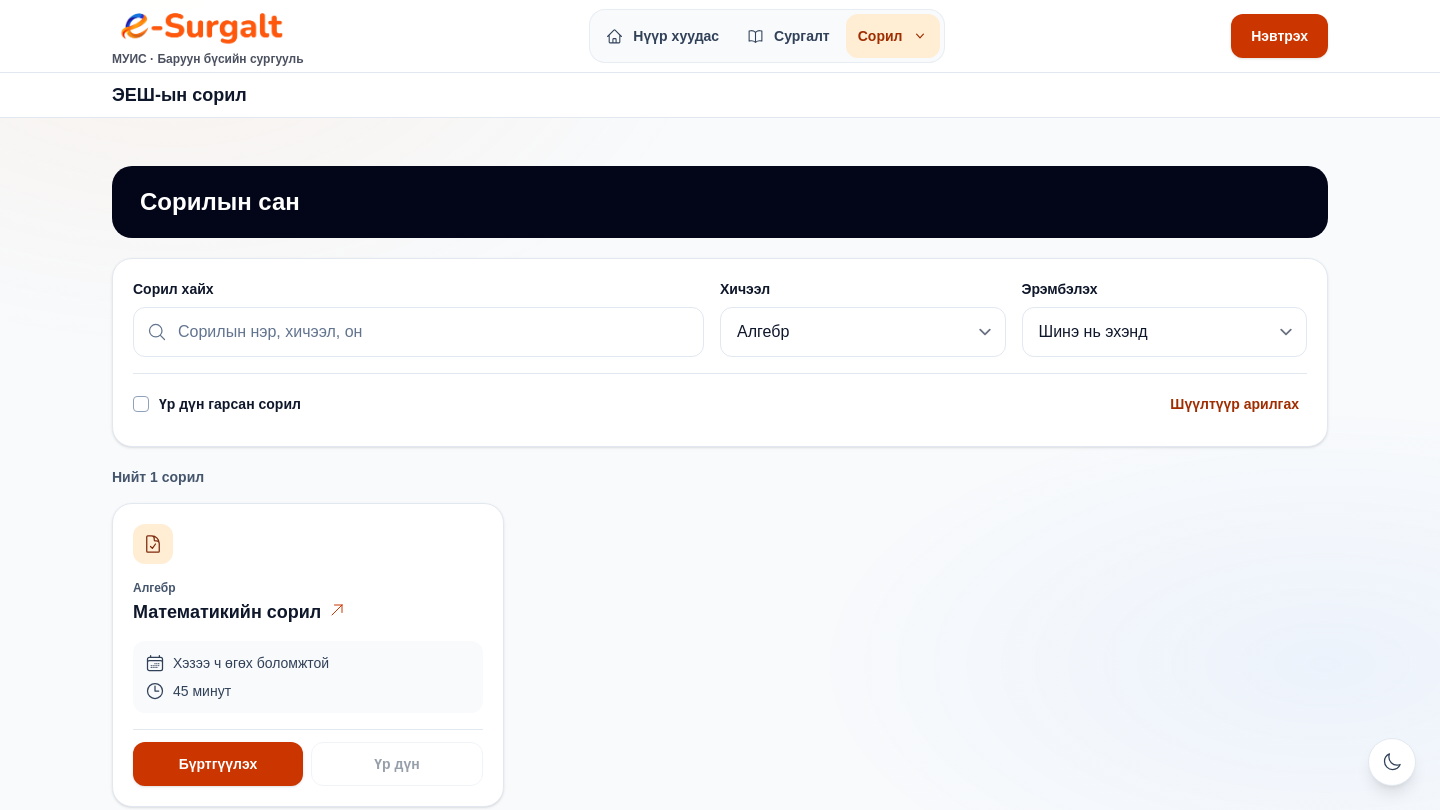
shows exam instructions and keeps the filters when returning to the catalog
The image size is (1440, 810).
Click the link "Математикийн сорил".
click(239, 612)  # box [133,600,345,625]
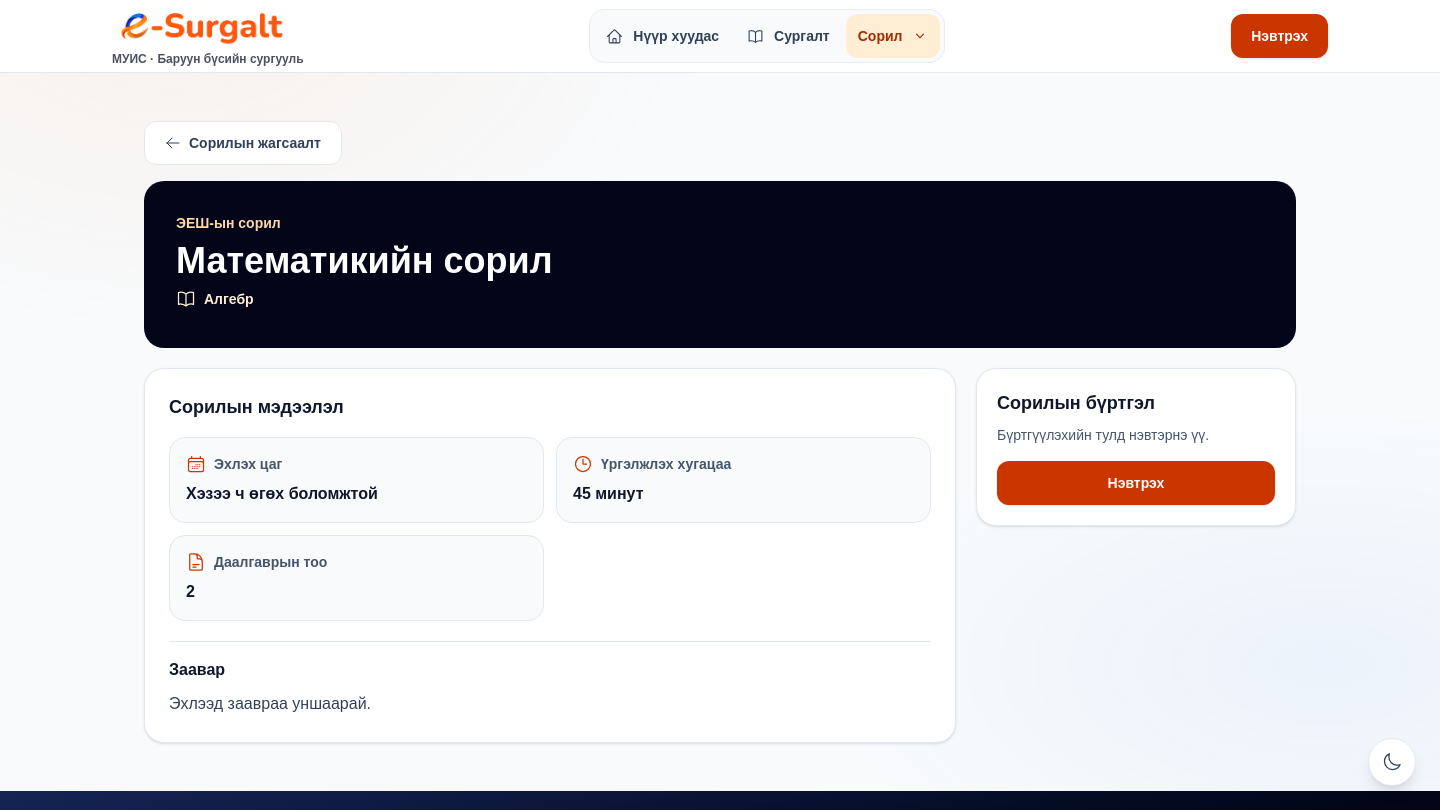
Expected: the heading "Математикийн сорил" is shown, [176,240,553,281]
Result: the text "Эхлээд заавраа уншаарай." is shown at [169,695,371,712]
Result: the text "Даалгаврын тоо" is shown at [186,552,327,572]
Click the link "Сорилын жагсаалт".
click(243, 143)  # box [144,121,342,165]
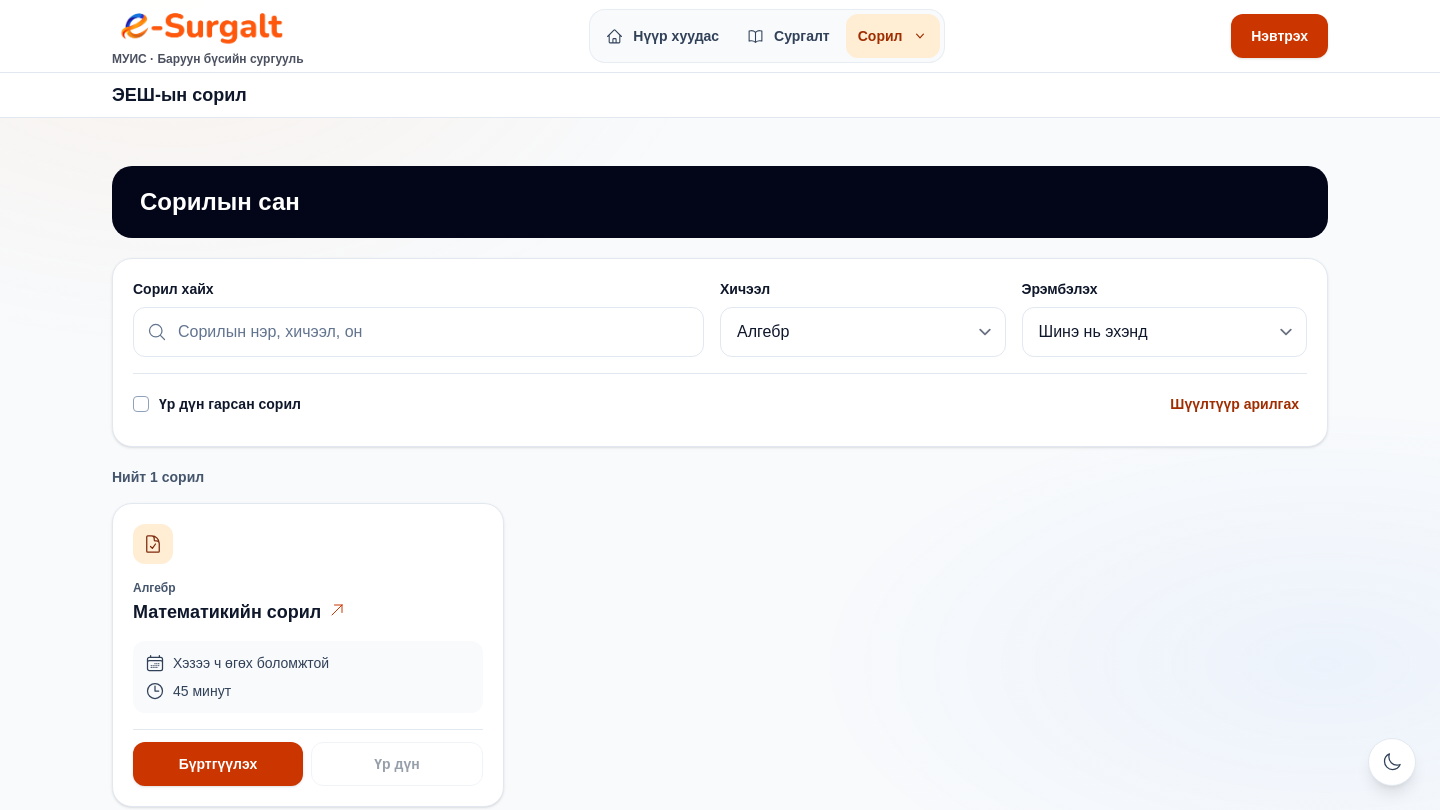
Result: the dropdown labelled "Хичээл" shows "Алгебр" at [720,307,1006,357]
